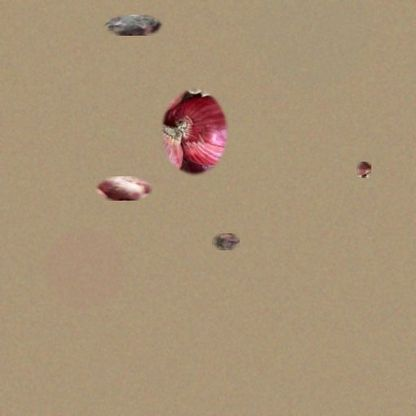damaged: (95, 176, 152, 201)
healthy: (160, 88, 228, 176)
rotten: (103, 15, 163, 36), (212, 233, 240, 250)
sprouted: (357, 162, 371, 178)
